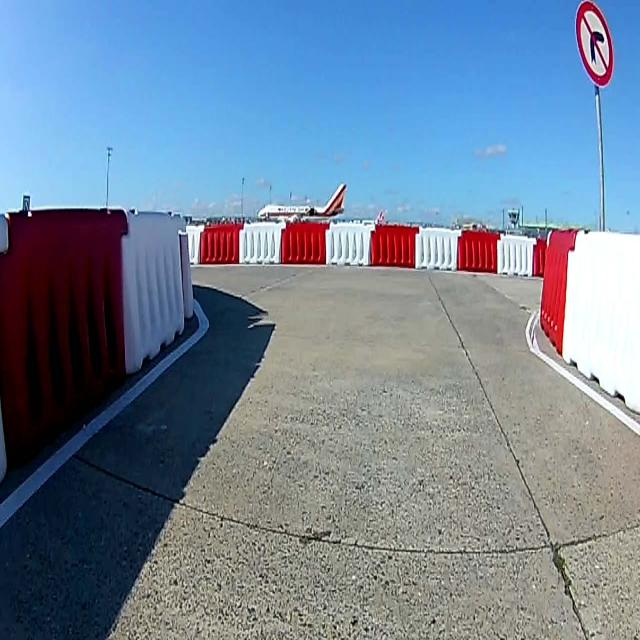sagadonulmez: (576, 2, 614, 86)
